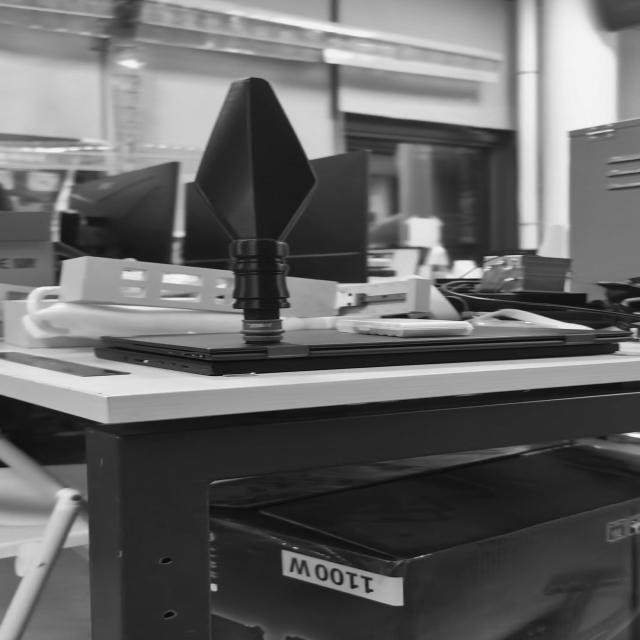base: (235, 316, 293, 348)
